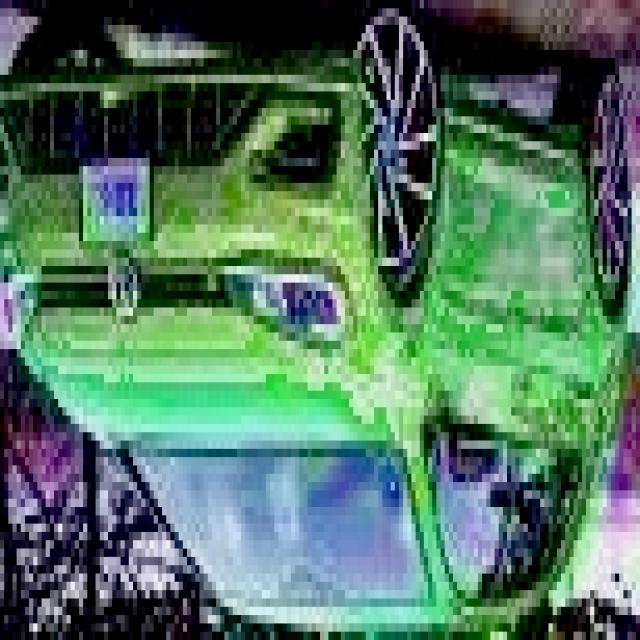green: (0, 38, 632, 628)
